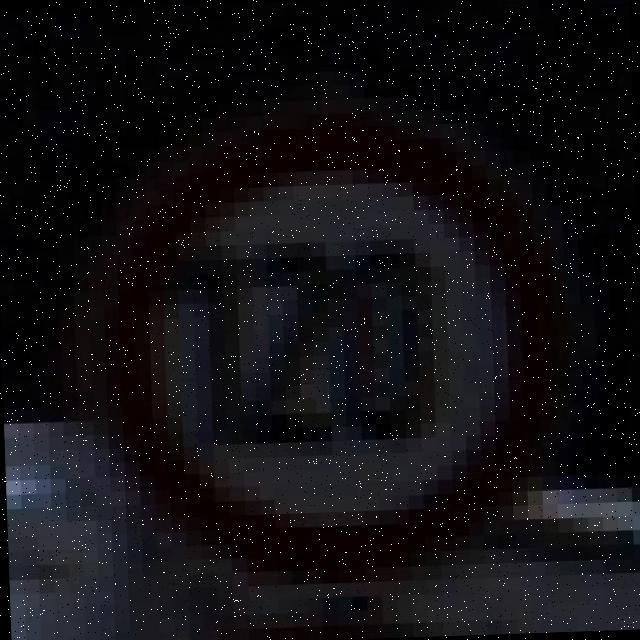Ograniczenie predkosci do 120: (80, 98, 580, 584)
